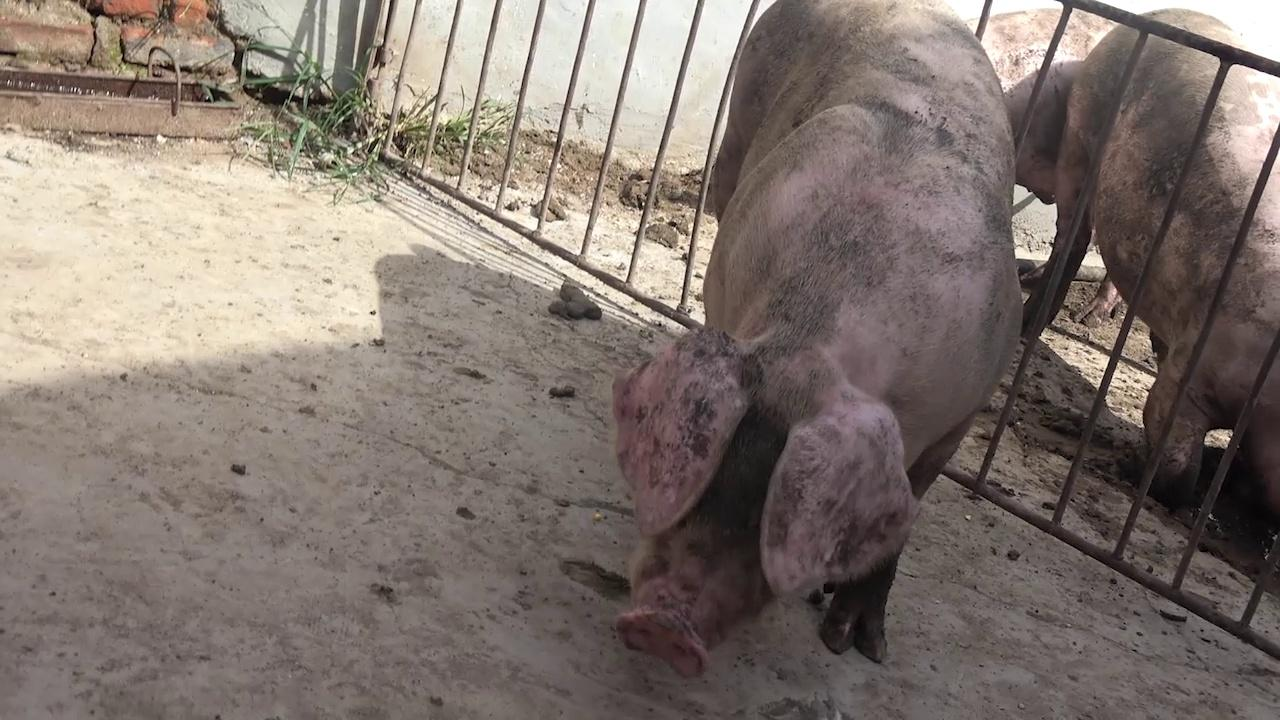Face: (597, 313, 923, 691)
